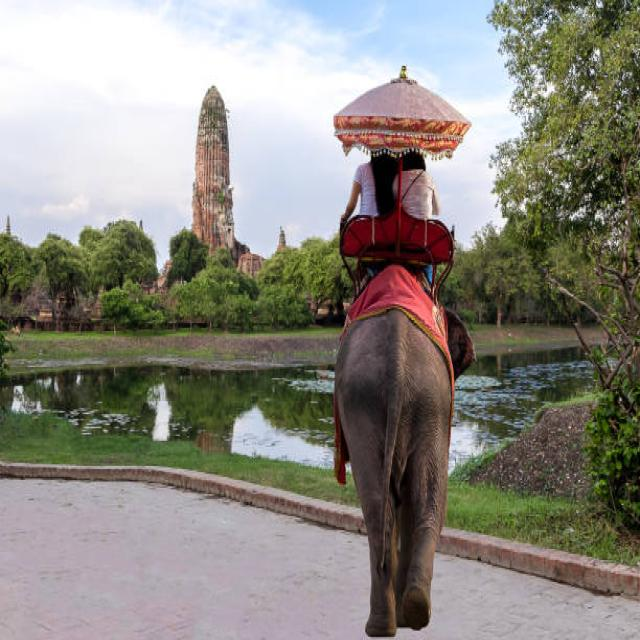Elephant: (333, 286, 465, 636)
